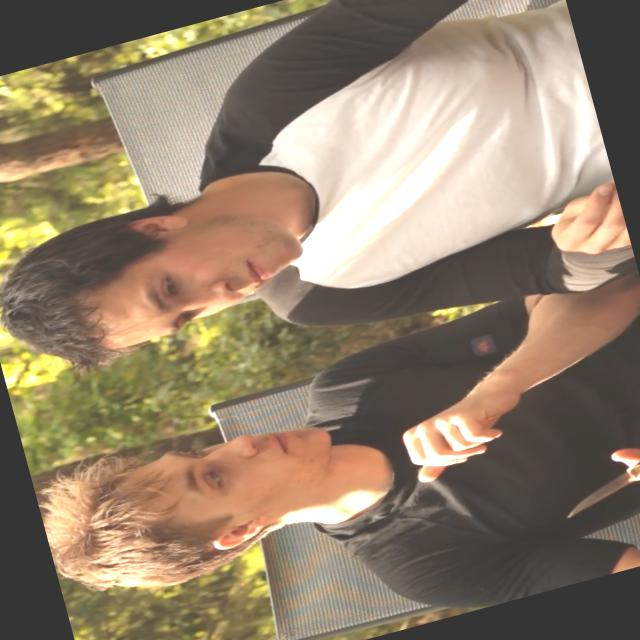knife: (535, 424, 639, 529)
